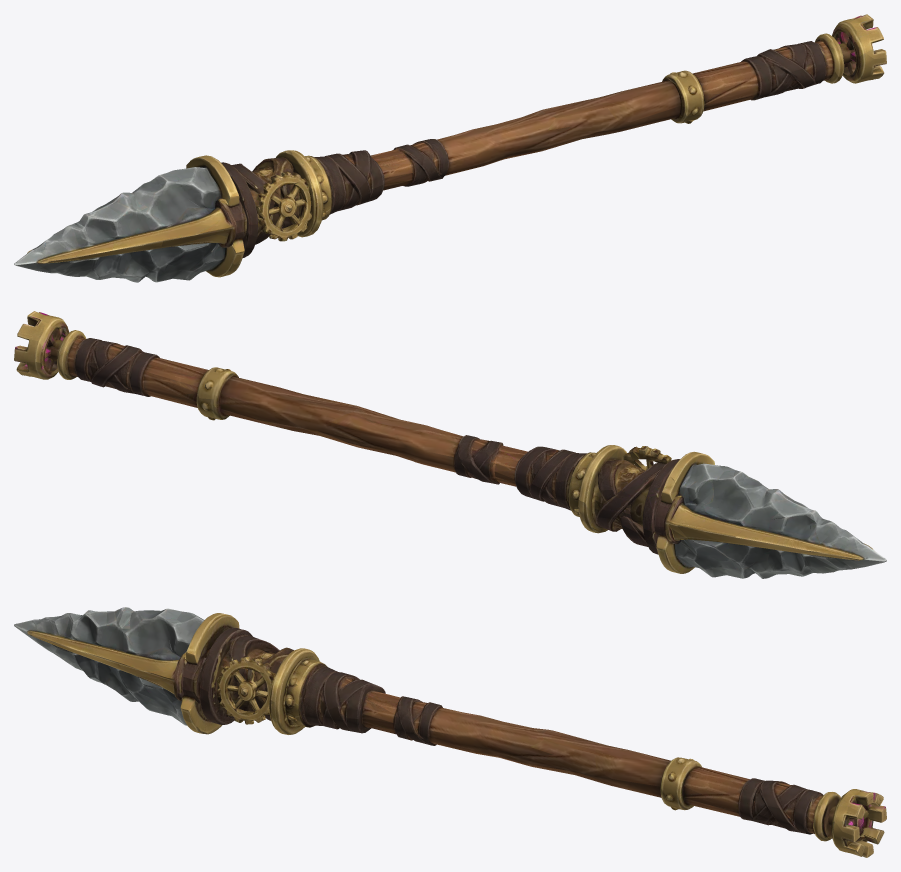
Rendered from weapon_spear.glb.
3 renders of one model, top to bottom at view 1: azimuth 30°, elevation 25°; view 2: azimuth 150°, elevation 25°; view 3: azimuth 330°, elevation 25°, orthographic.
Visible parts, largest first — view 1: output_unwrapped; view 2: output_unwrapped; view 3: output_unwrapped.
Boxes of the visible parts, x1=… form: output_unwrapped: x1=14, y1=14, x2=886, y2=282; output_unwrapped: x1=14, y1=311, x2=886, y2=578; output_unwrapped: x1=14, y1=607, x2=886, y2=857.
Bounding box in the file's own units: 1.89 × 0.24 × 0.2291.
Materials: 1 (1 with a texture image).
